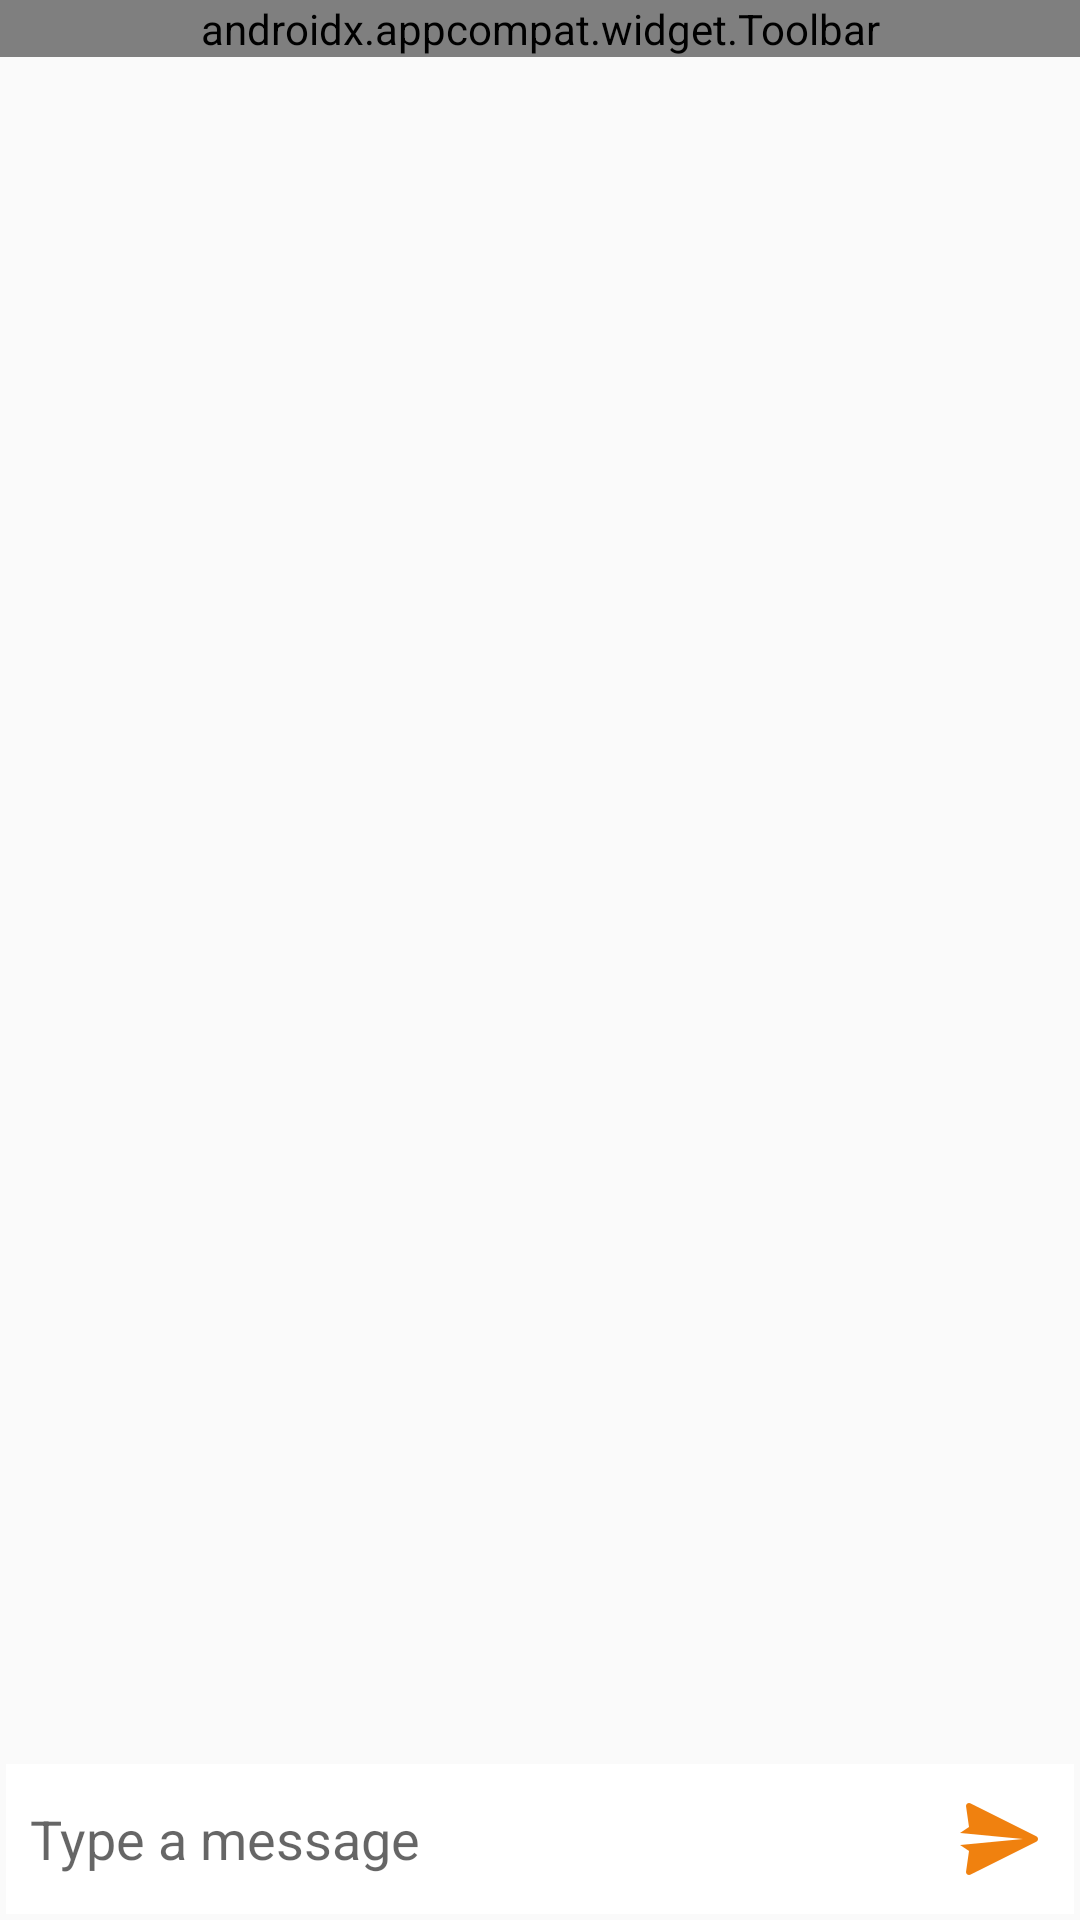

Screen size 1080px×1920px. Icon name, then its box in pixels as (x1, y1, x2, y2):
sent: (960, 1803, 1038, 1875)
